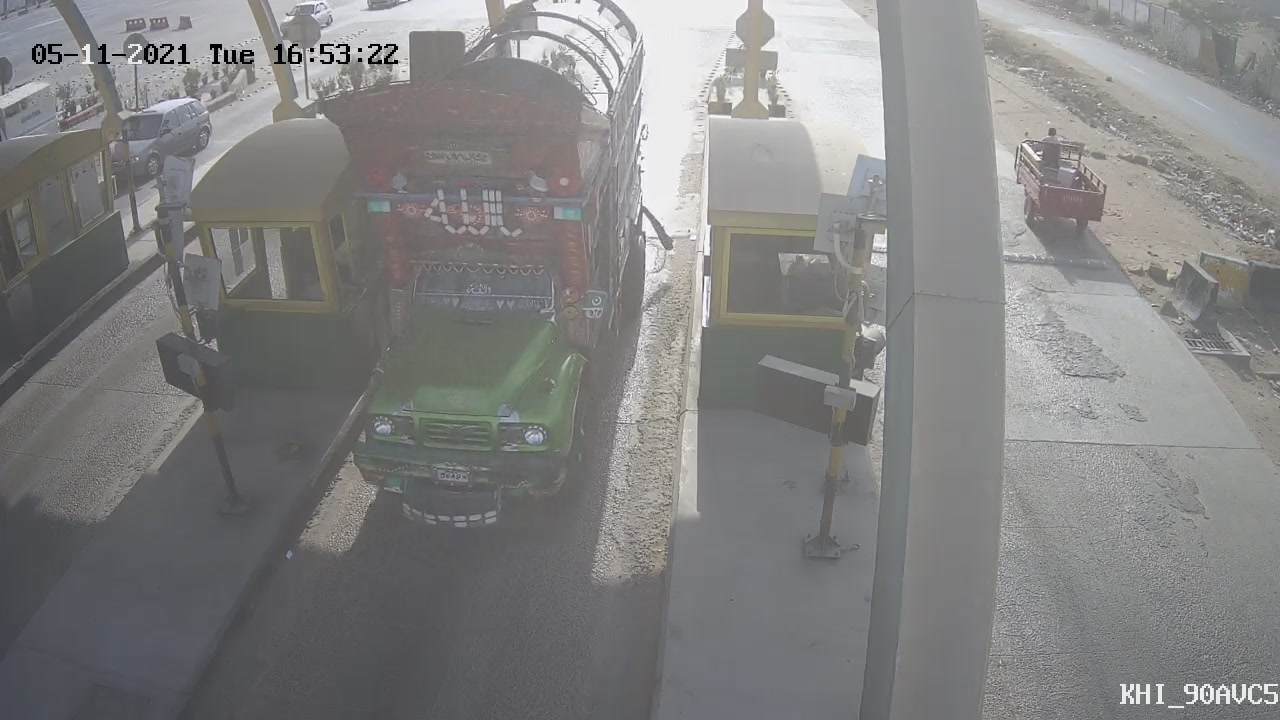F5: (300, 1, 673, 557)
